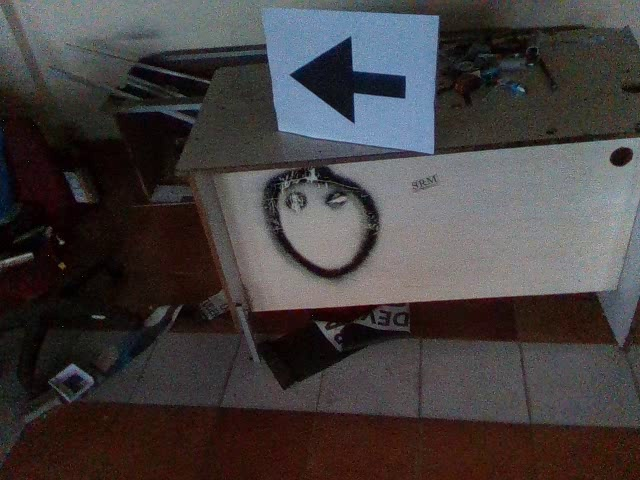Left: (284, 30, 411, 128)
